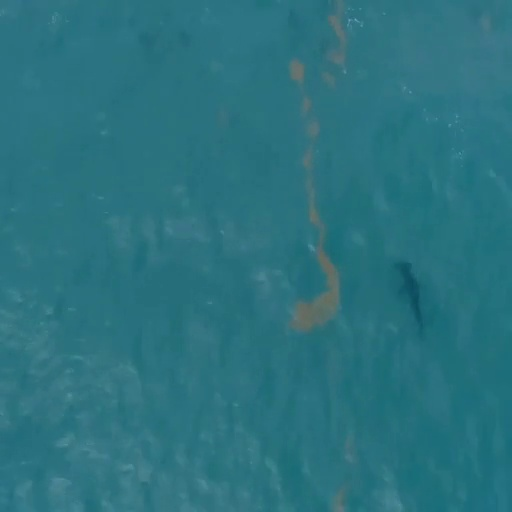shark: (389, 260, 430, 330)
